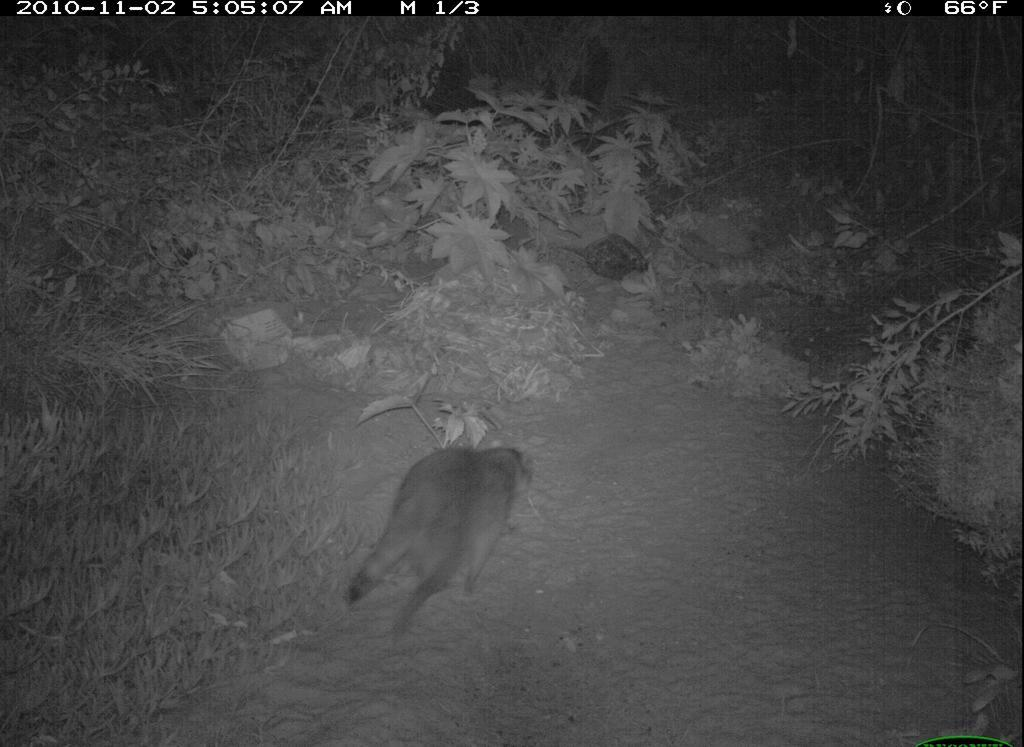raccoon: (345, 436, 539, 641)
